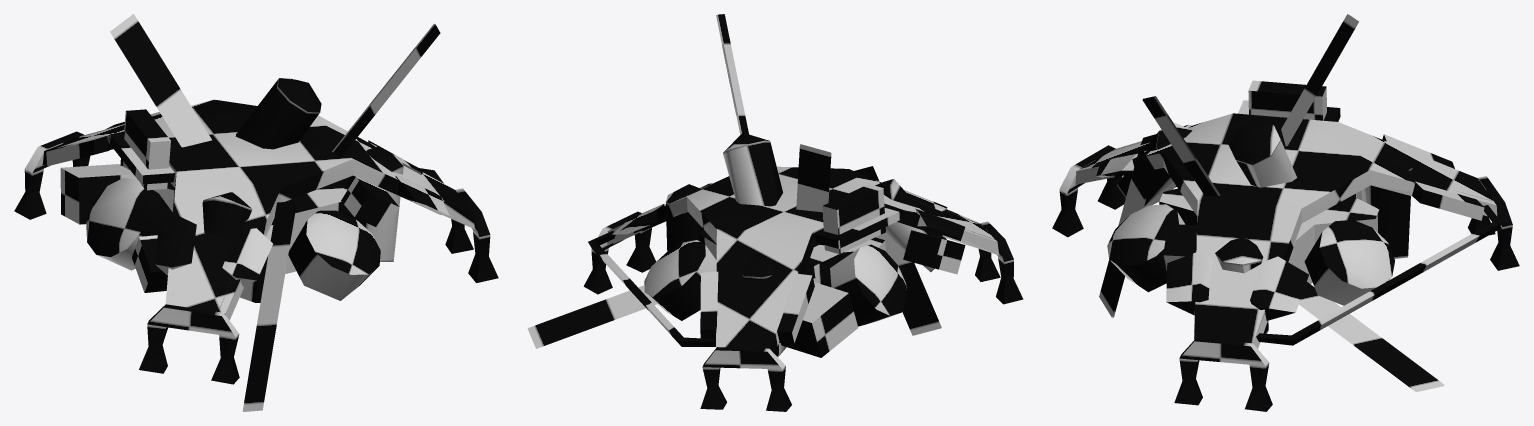
The model's file is asset-mmo-satellite.obj.
The picture shows the model from 3 angles, left to right: view 1: azimuth 30°, elevation 25°; view 2: azimuth 150°, elevation 25°; view 3: azimuth 270°, elevation 25°; orthographic projection. The views are drawn at different scales.
Visible parts, largest first — view 1: asset_mmo_satellite; view 2: asset_mmo_satellite; view 3: asset_mmo_satellite.
Part boxes in pixels (<box>): asset_mmo_satellite: <box>14,14,498,411</box>; asset_mmo_satellite: <box>527,14,1023,411</box>; asset_mmo_satellite: <box>1052,14,1519,411</box>.
Bounding box in the file's own units: 151 × 114 × 154.
Materials: 1 (1 with a texture image).
